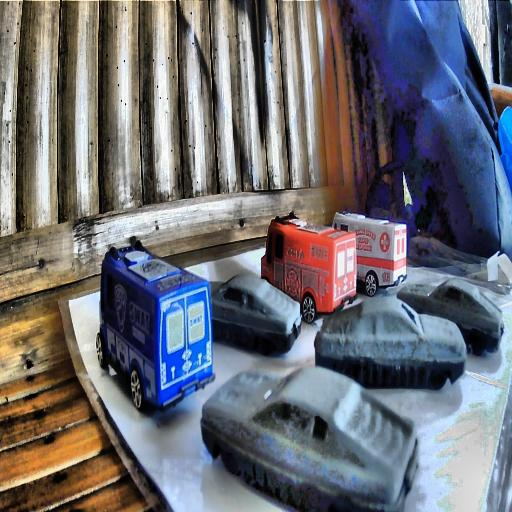ambulance: (326, 211, 406, 296)
fire_truck: (260, 212, 356, 320)
normal_car: (202, 364, 416, 512), (314, 296, 464, 392), (200, 370, 294, 467), (396, 277, 506, 357), (210, 273, 300, 358)
police car: (94, 239, 213, 413)
